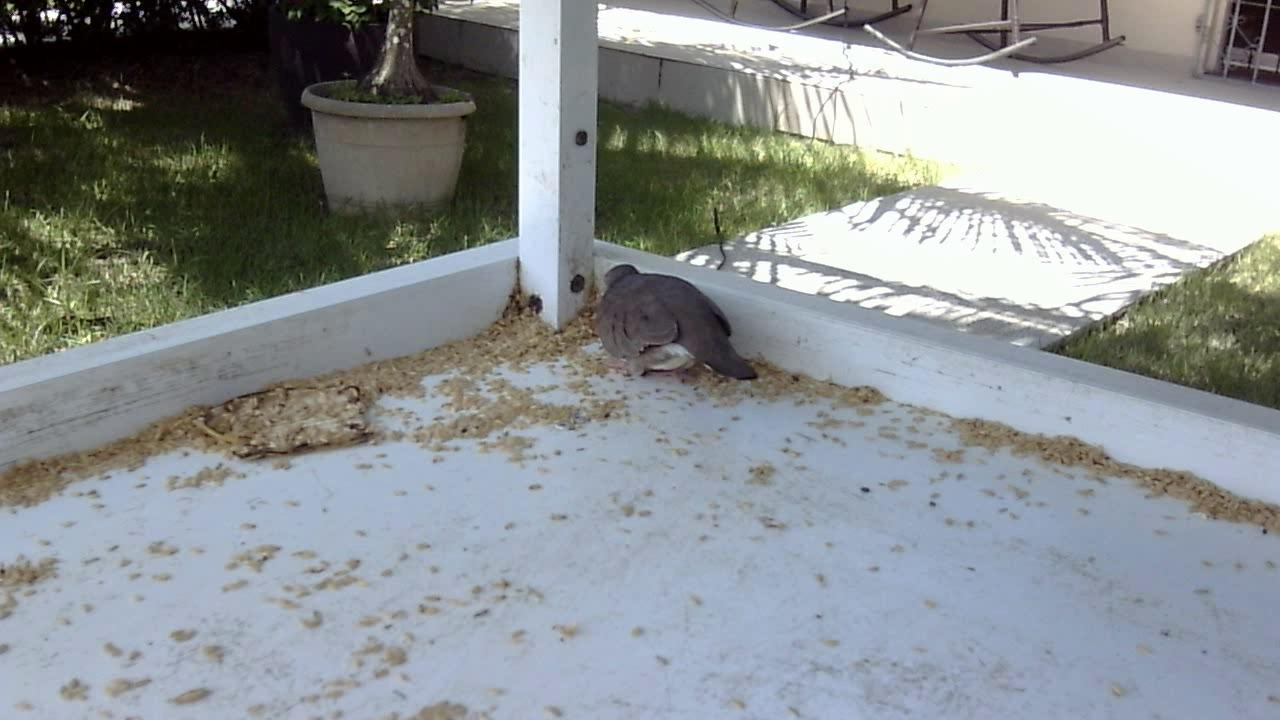rolinha: (587, 263, 758, 389)
